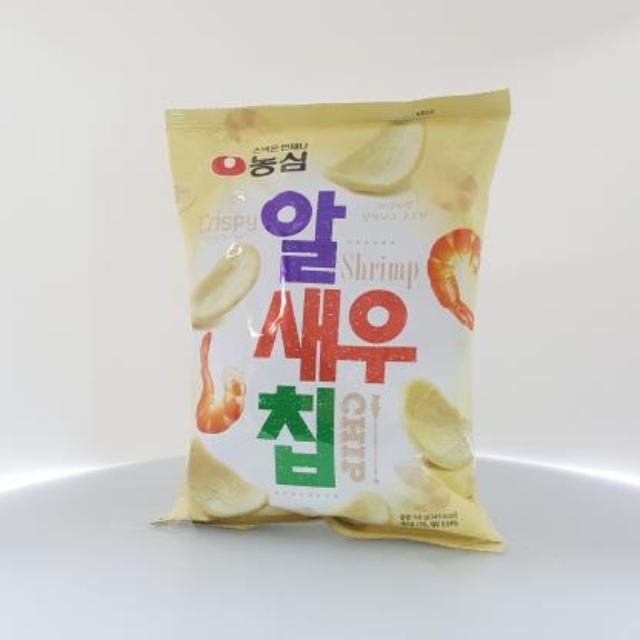snack_bag: (145, 78, 531, 556)
